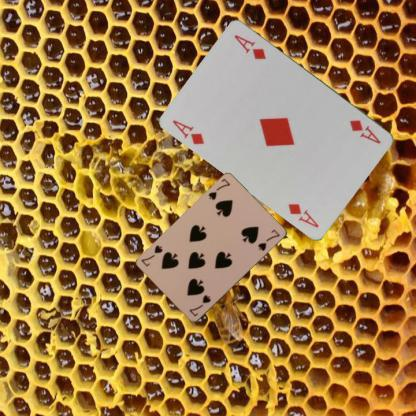7s: (187, 292, 212, 318), (206, 176, 231, 202)
Ad: (170, 117, 207, 146), (347, 116, 382, 146)
